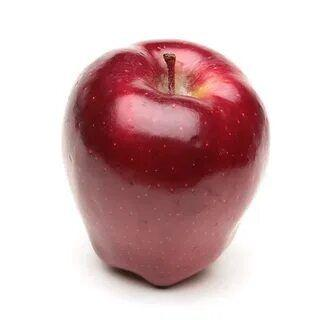Apple: (61, 38, 270, 292)
